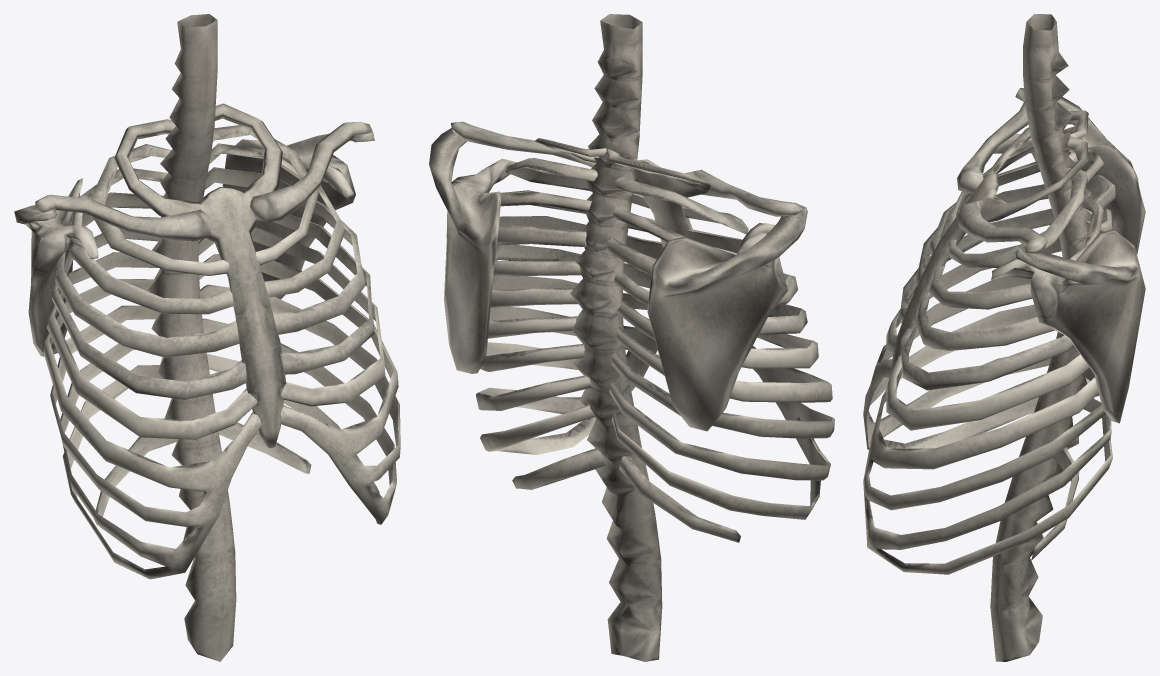
Rendered from pecho.obj.
The picture shows the model from 3 angles, left to right: view 1: azimuth 30°, elevation 25°; view 2: azimuth 150°, elevation 25°; view 3: azimuth 270°, elevation 25°; orthographic projection. The views are drawn at different scales.
Visible parts, largest first — view 1: pecho; view 2: pecho; view 3: pecho.
Part boxes in pixels (x1,y1,x2,y2): pecho: [14, 14, 400, 661]; pecho: [429, 14, 834, 661]; pecho: [863, 14, 1145, 661].
Bounding box in the file's own units: 0.4006 × 0.6871 × 0.2749.
Materials: 1 (1 with a texture image).
